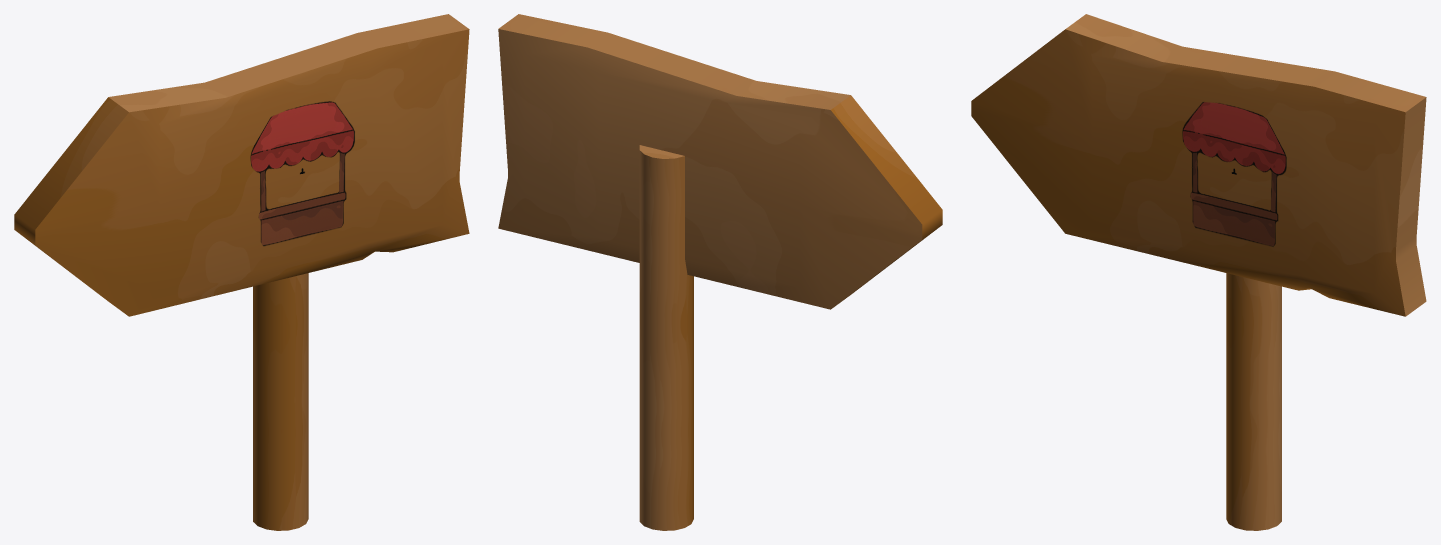
The model's file is SignPazar.fbx.
The picture shows the model from 3 angles, left to right: view 1: azimuth 30°, elevation 25°; view 2: azimuth 150°, elevation 25°; view 3: azimuth 330°, elevation 25°; orthographic projection. The views are drawn at different scales.
Parts seen in each view (by area): view 1: Circle.003; view 2: Circle.003; view 3: Circle.003.
Boxes of the visible parts, box(x1,y1,x2,y2) form: Circle.003: box(14, 14, 469, 530); Circle.003: box(498, 14, 942, 530); Circle.003: box(971, 14, 1426, 530).
Size of the model in its own units: 191 by 195 by 26.68.
1 material, 1 textured.
